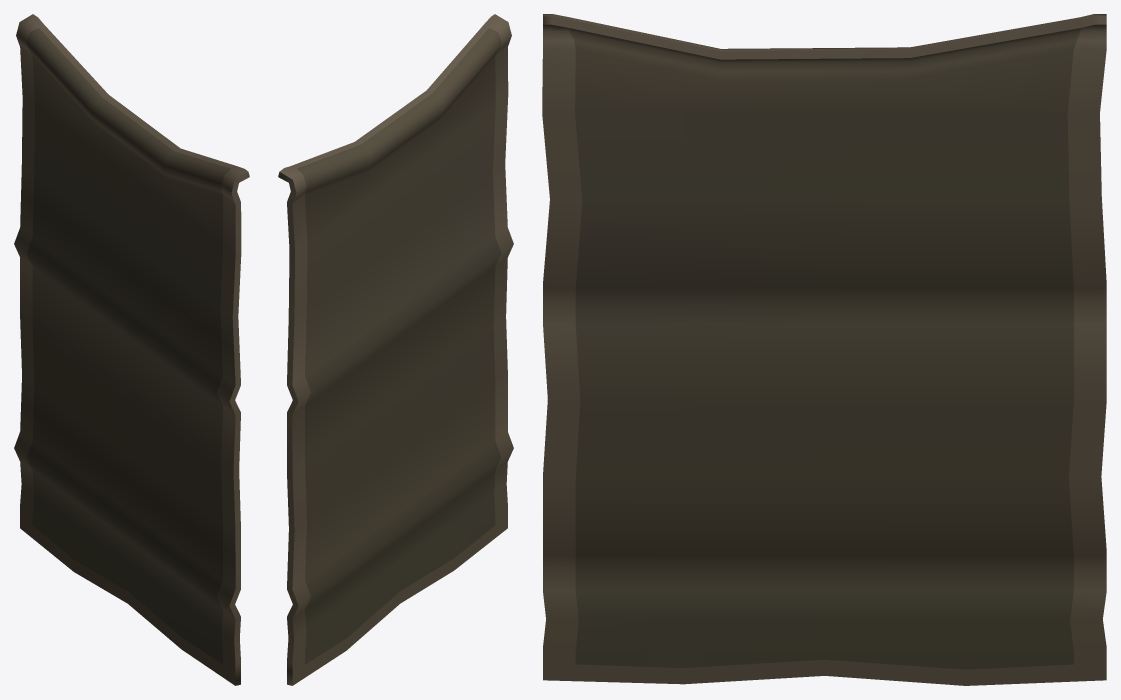
File: Scaffold_sheet_2_4.fbx
The picture shows the model from 3 angles, left to right: view 1: azimuth 30°, elevation 25°; view 2: azimuth 150°, elevation 25°; view 3: azimuth 270°, elevation 25°; orthographic projection. The views are drawn at different scales.
Parts seen in each view (by area): view 1: Scaffold_sheet_2_4; view 2: Scaffold_sheet_2_4; view 3: Scaffold_sheet_2_4.
Part boxes in pixels (<box>): Scaffold_sheet_2_4: <box>14,14,249,685</box>; Scaffold_sheet_2_4: <box>278,14,513,685</box>; Scaffold_sheet_2_4: <box>542,14,1106,685</box>.
Bounding box in the file's own units: 10.1 × 242 × 184.
